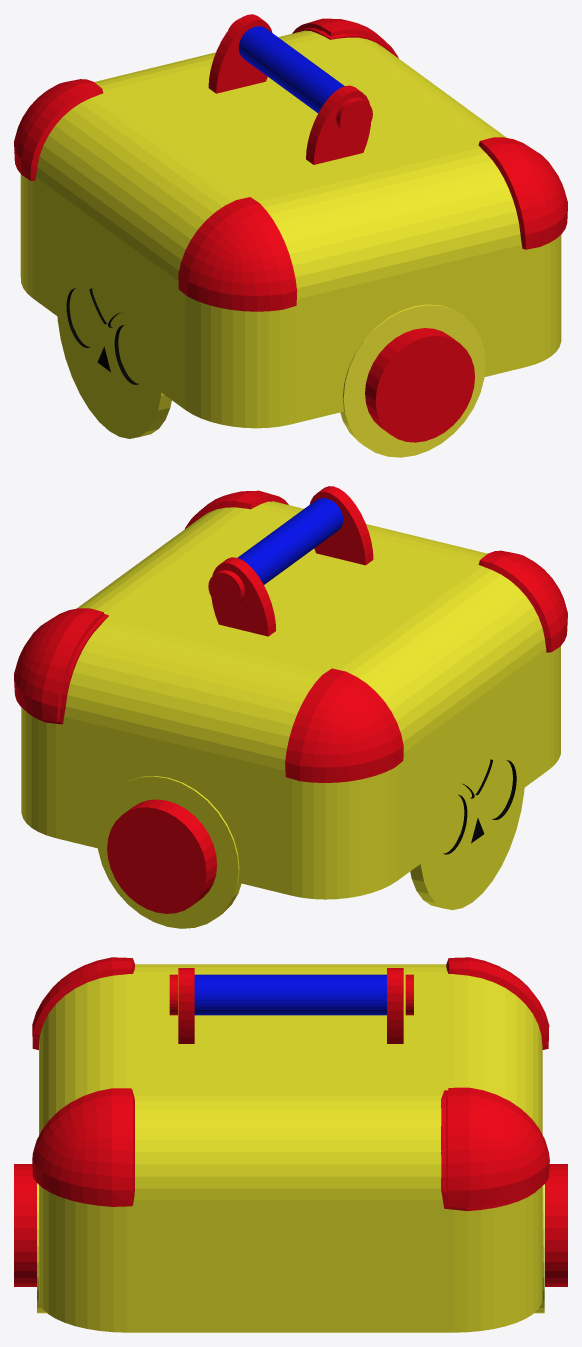
Rendered from MEGACAJAARRIBA.fbx.
3 renders of one model, top to bottom at view 1: azimuth 30°, elevation 25°; view 2: azimuth 150°, elevation 25°; view 3: azimuth 270°, elevation 25°, orthographic. The views are drawn at different scales.
Parts seen in each view (by area): view 1: Cubo.001; view 2: Cubo.001; view 3: Cubo.001.
Part boxes in pixels (x1,y1,x2,y2): Cubo.001: (14, 14, 567, 457); Cubo.001: (14, 486, 567, 928); Cubo.001: (14, 957, 567, 1332).
Bounding box in the file's own units: 211 × 178 × 252.
